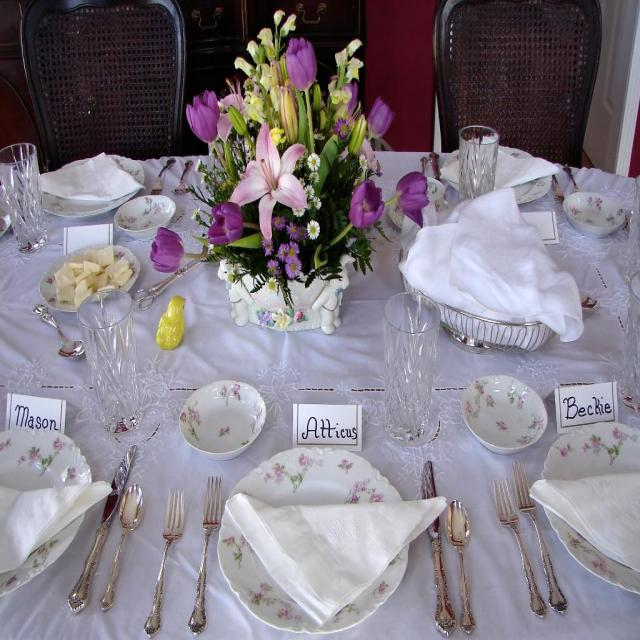non-organic waste: (214, 451, 409, 631), (452, 374, 556, 460), (183, 385, 269, 456)
